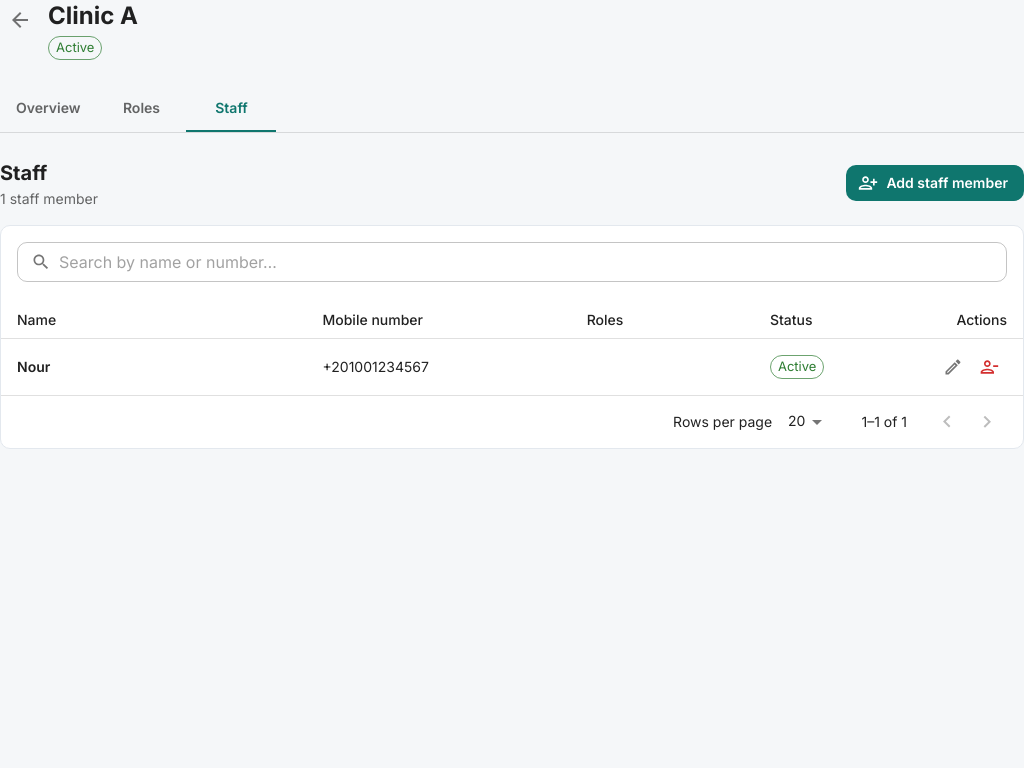
Test: staff list @area:admin › the Remove confirm in English @ADM-252
The image size is (1024, 768).
Click the button named "Remove “ Nour ”" at point(989, 367), box x1=971 y1=349 x2=1007 y2=385
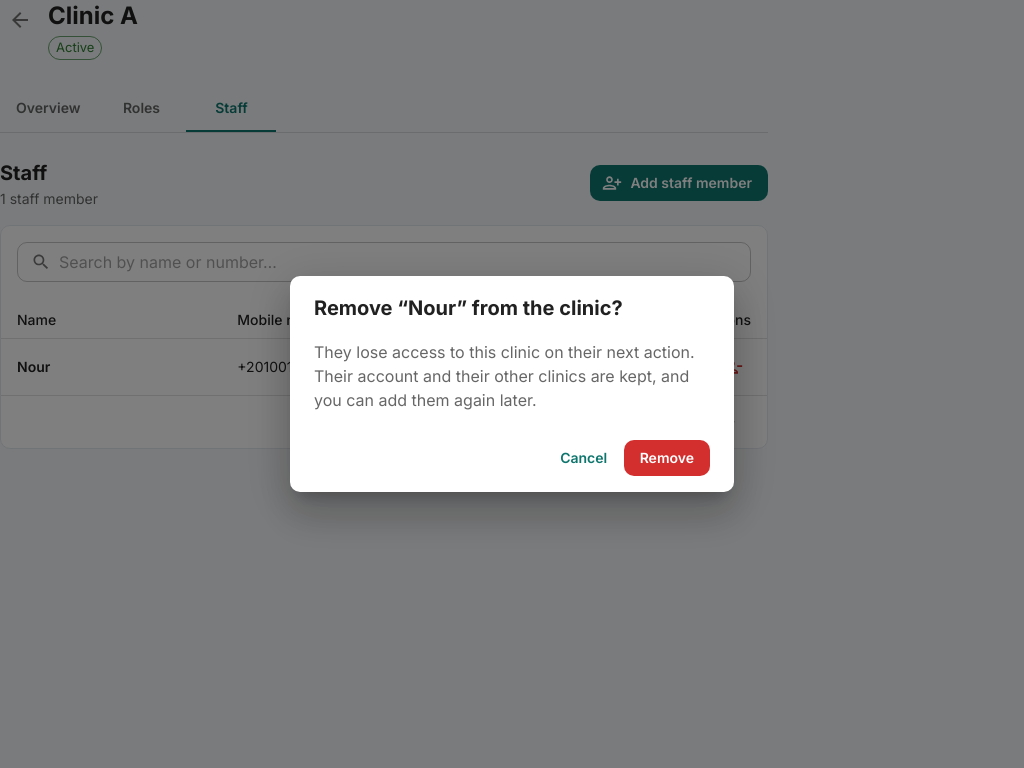
Result: the heading reads "Remove “ Nour ” from the clinic?" at x1=314 y1=296 x2=623 y2=320
Result: the text "They lose access to this clinic on their next action. Their account and their other clinics are kept, and you can add th" is shown at x1=314 y1=342 x2=695 y2=410
